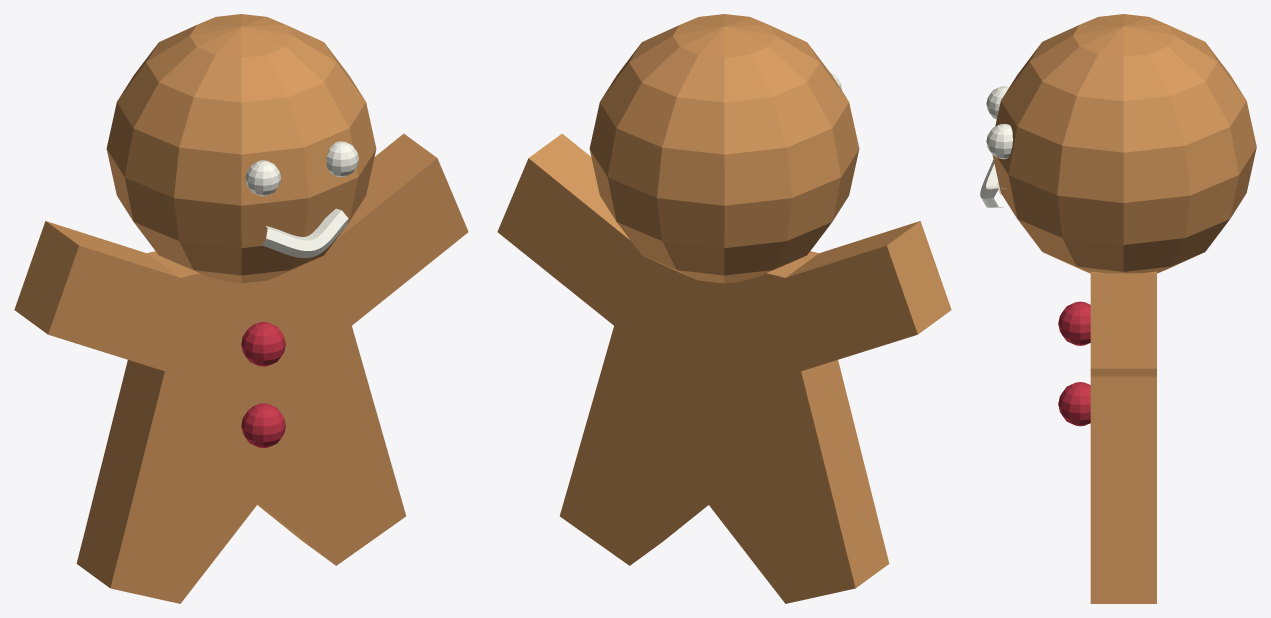
File: three-d-christmas-village-christmas-village-gingerbread-person-4518b820.glb
3 views of the same model, side by side, from view 1: azimuth 30°, elevation 25°; view 2: azimuth 150°, elevation 25°; view 3: azimuth 270°, elevation 25° (orthographic).
Visible parts, largest first — view 1: gingerbread-person; view 2: gingerbread-person; view 3: gingerbread-person.
Part boxes in pixels (x1=…): gingerbread-person: x1=14, y1=14, x2=468, y2=603; gingerbread-person: x1=497, y1=14, x2=951, y2=603; gingerbread-person: x1=980, y1=14, x2=1256, y2=603.
Size of the model in its own units: 0.54 by 0.67 by 0.312.
